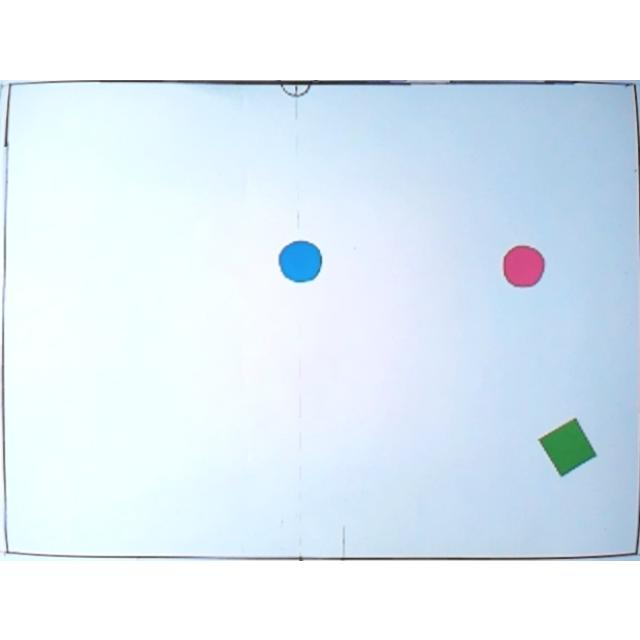blueCircle: (276, 237, 324, 283)
greenSquare: (538, 416, 598, 476)
pinkCircle: (502, 240, 546, 288)
